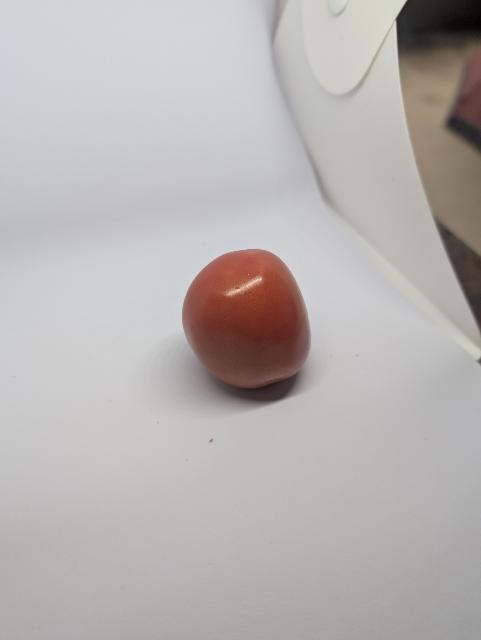red: (169, 237, 345, 404)
